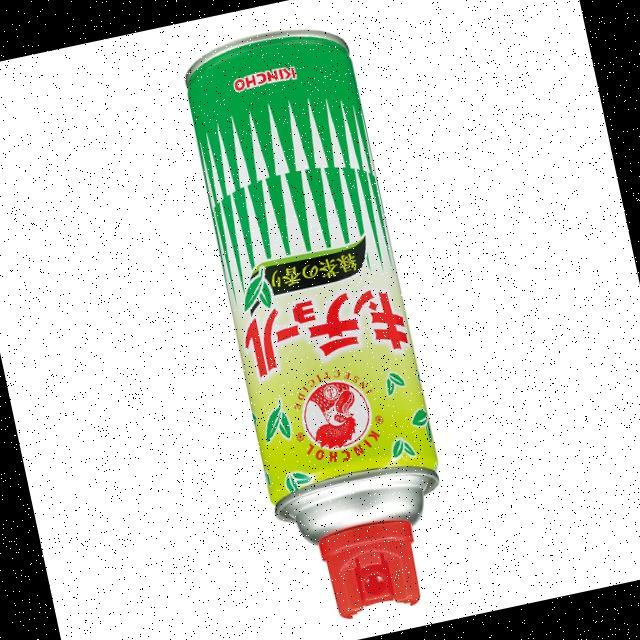chemical_spray_can: (185, 30, 438, 618)
